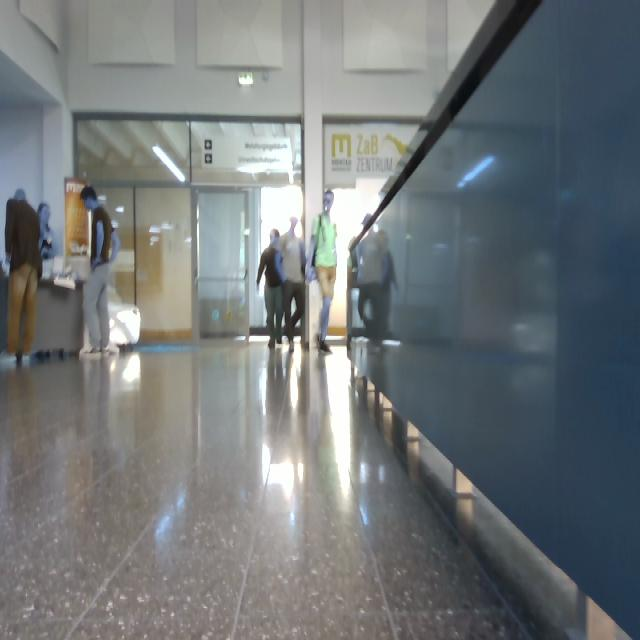door: (135, 185, 193, 342), (196, 189, 250, 340)
light bulb: (457, 154, 496, 189), (152, 145, 186, 184), (116, 306, 142, 345), (238, 72, 254, 86), (149, 225, 162, 234), (150, 236, 160, 246)
person: (4, 188, 43, 364), (80, 185, 120, 356), (308, 189, 338, 353), (279, 217, 307, 353), (256, 229, 286, 349)
staircase: (346, 1, 639, 640)
